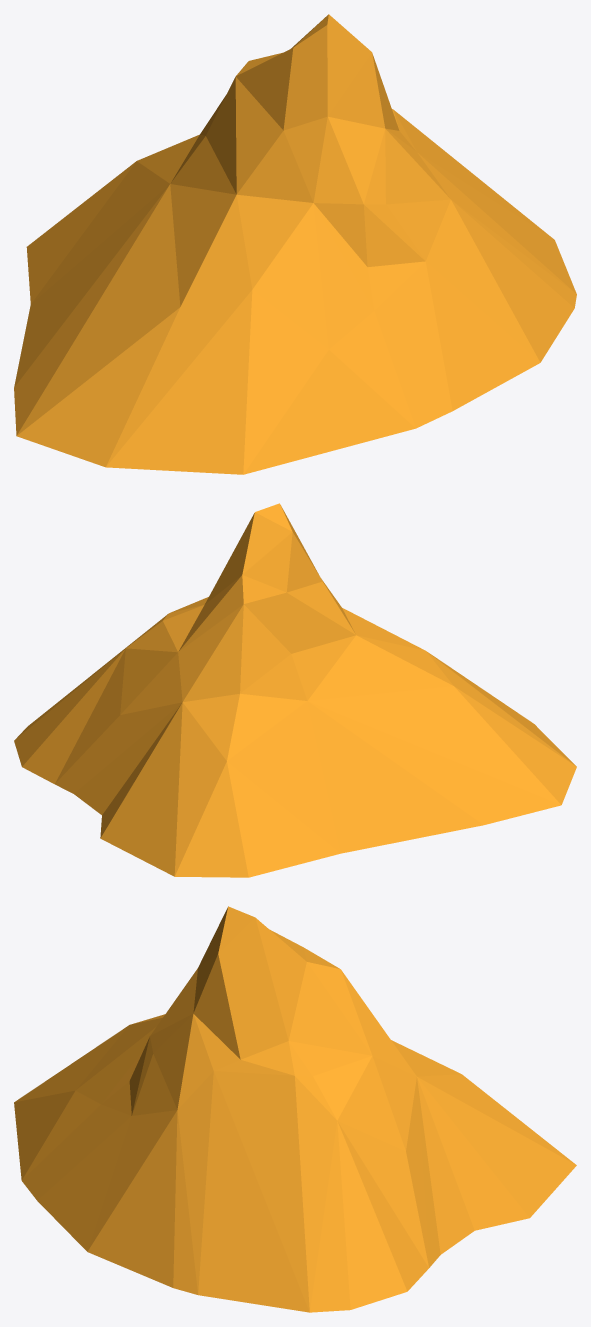
File: SM_Pile_Snow_B.fbx
The picture shows the model from 3 angles, top to bottom: view 1: azimuth 30°, elevation 25°; view 2: azimuth 150°, elevation 25°; view 3: azimuth 270°, elevation 25°; orthographic projection. The views are drawn at different scales.
Parts seen in each view (by area): view 1: pile-snow-b; view 2: pile-snow-b; view 3: pile-snow-b.
Boxes of the visible parts, bbox=[...] form: pile-snow-b: bbox=[14, 14, 576, 474]; pile-snow-b: bbox=[14, 503, 576, 877]; pile-snow-b: bbox=[14, 906, 576, 1312].
Size of the model in its own units: 2.52 by 1.25 by 2.24.
